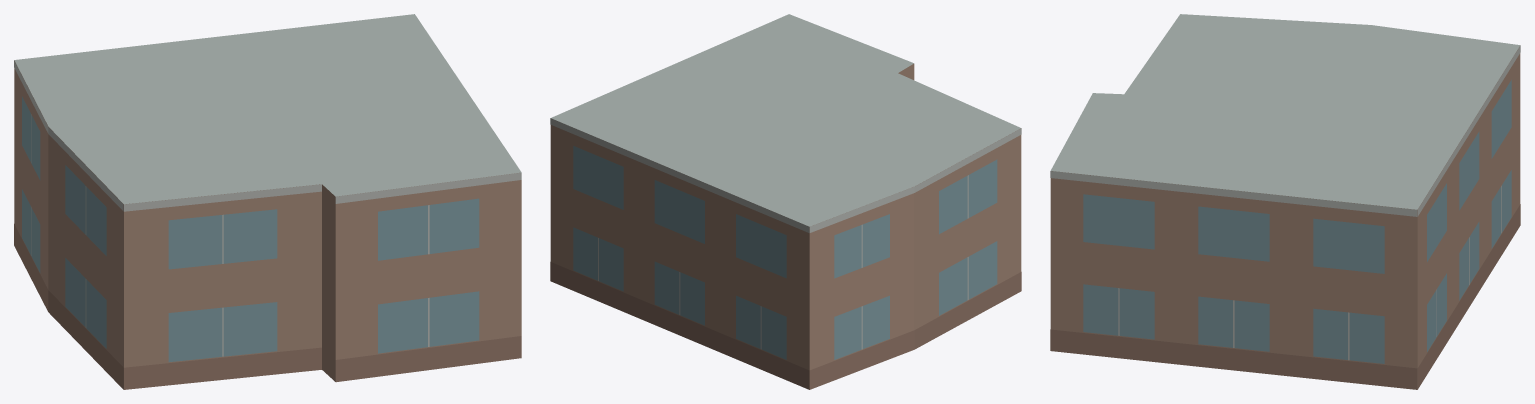
File: survey-upis-32671495.glb
3 renders of one model, left to right at view 1: azimuth 30°, elevation 25°; view 2: azimuth 150°, elevation 25°; view 3: azimuth 270°, elevation 25°, orthographic. The views are drawn at different scales.
Visible parts, largest first — view 1: survey-upis-32671495.tmp; view 2: survey-upis-32671495.tmp; view 3: survey-upis-32671495.tmp.
Part boxes in pixels (x1,y1,x2,y2): survey-upis-32671495.tmp: [14, 14, 521, 389]; survey-upis-32671495.tmp: [550, 14, 1021, 389]; survey-upis-32671495.tmp: [1050, 14, 1520, 389].
Bounding box in the file's own units: 14.23 × 6.1 × 14.44.
